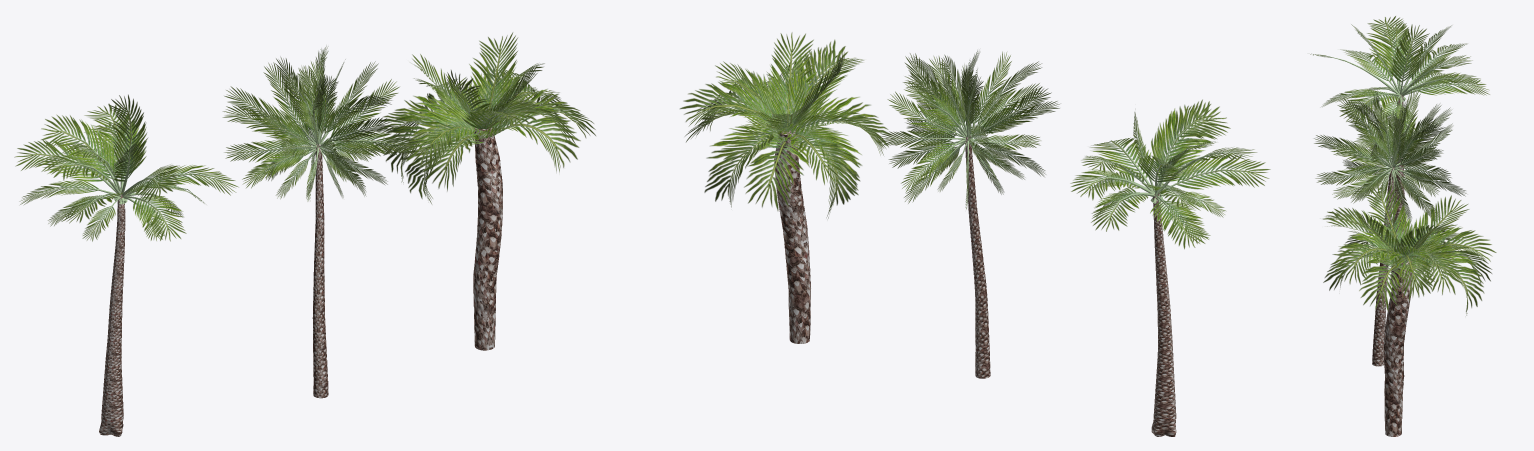
File: tree.gltf
3 renders of one model, left to right at view 1: azimuth 30°, elevation 25°; view 2: azimuth 150°, elevation 25°; view 3: azimuth 270°, elevation 25°, orthographic. The views are drawn at different scales.
Visible parts, largest first — view 1: mesh_node, mesh_node.002, mesh_node.001; view 2: mesh_node, mesh_node.002, mesh_node.001; view 3: mesh_node, mesh_node.002, mesh_node.001.
Boxes of the visible parts, box(x1,y1,x2,y2) form: mesh_node: box(377, 32, 595, 350); mesh_node.002: box(222, 45, 421, 398); mesh_node.001: box(14, 94, 238, 436); mesh_node: box(679, 32, 891, 343); mesh_node.002: box(877, 50, 1060, 378); mesh_node.001: box(1070, 99, 1270, 436); mesh_node: box(1322, 181, 1496, 436); mesh_node.002: box(1314, 88, 1466, 366); mesh_node.001: box(1310, 16, 1489, 286).
Bounding box in the file's own units: 14.27 × 7.96 × 5.75.
Materials: 3 (2 with a texture image).
